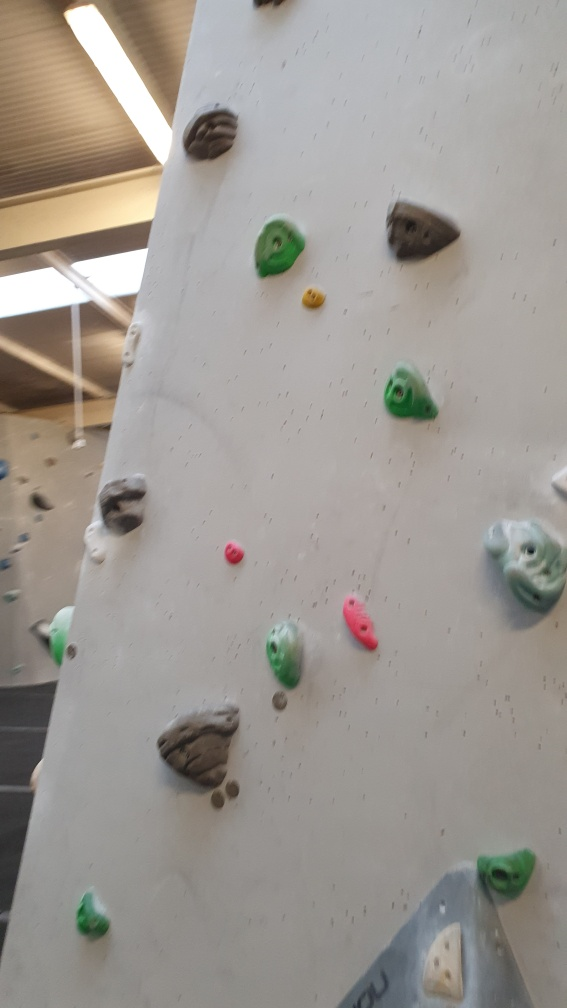Hand Start: (269, 688, 292, 714), (208, 790, 228, 811), (226, 778, 239, 799)
Jug: (482, 516, 567, 614), (153, 700, 242, 785), (380, 197, 461, 268), (180, 99, 242, 166), (251, 216, 308, 280), (381, 359, 437, 422), (98, 471, 148, 532)
